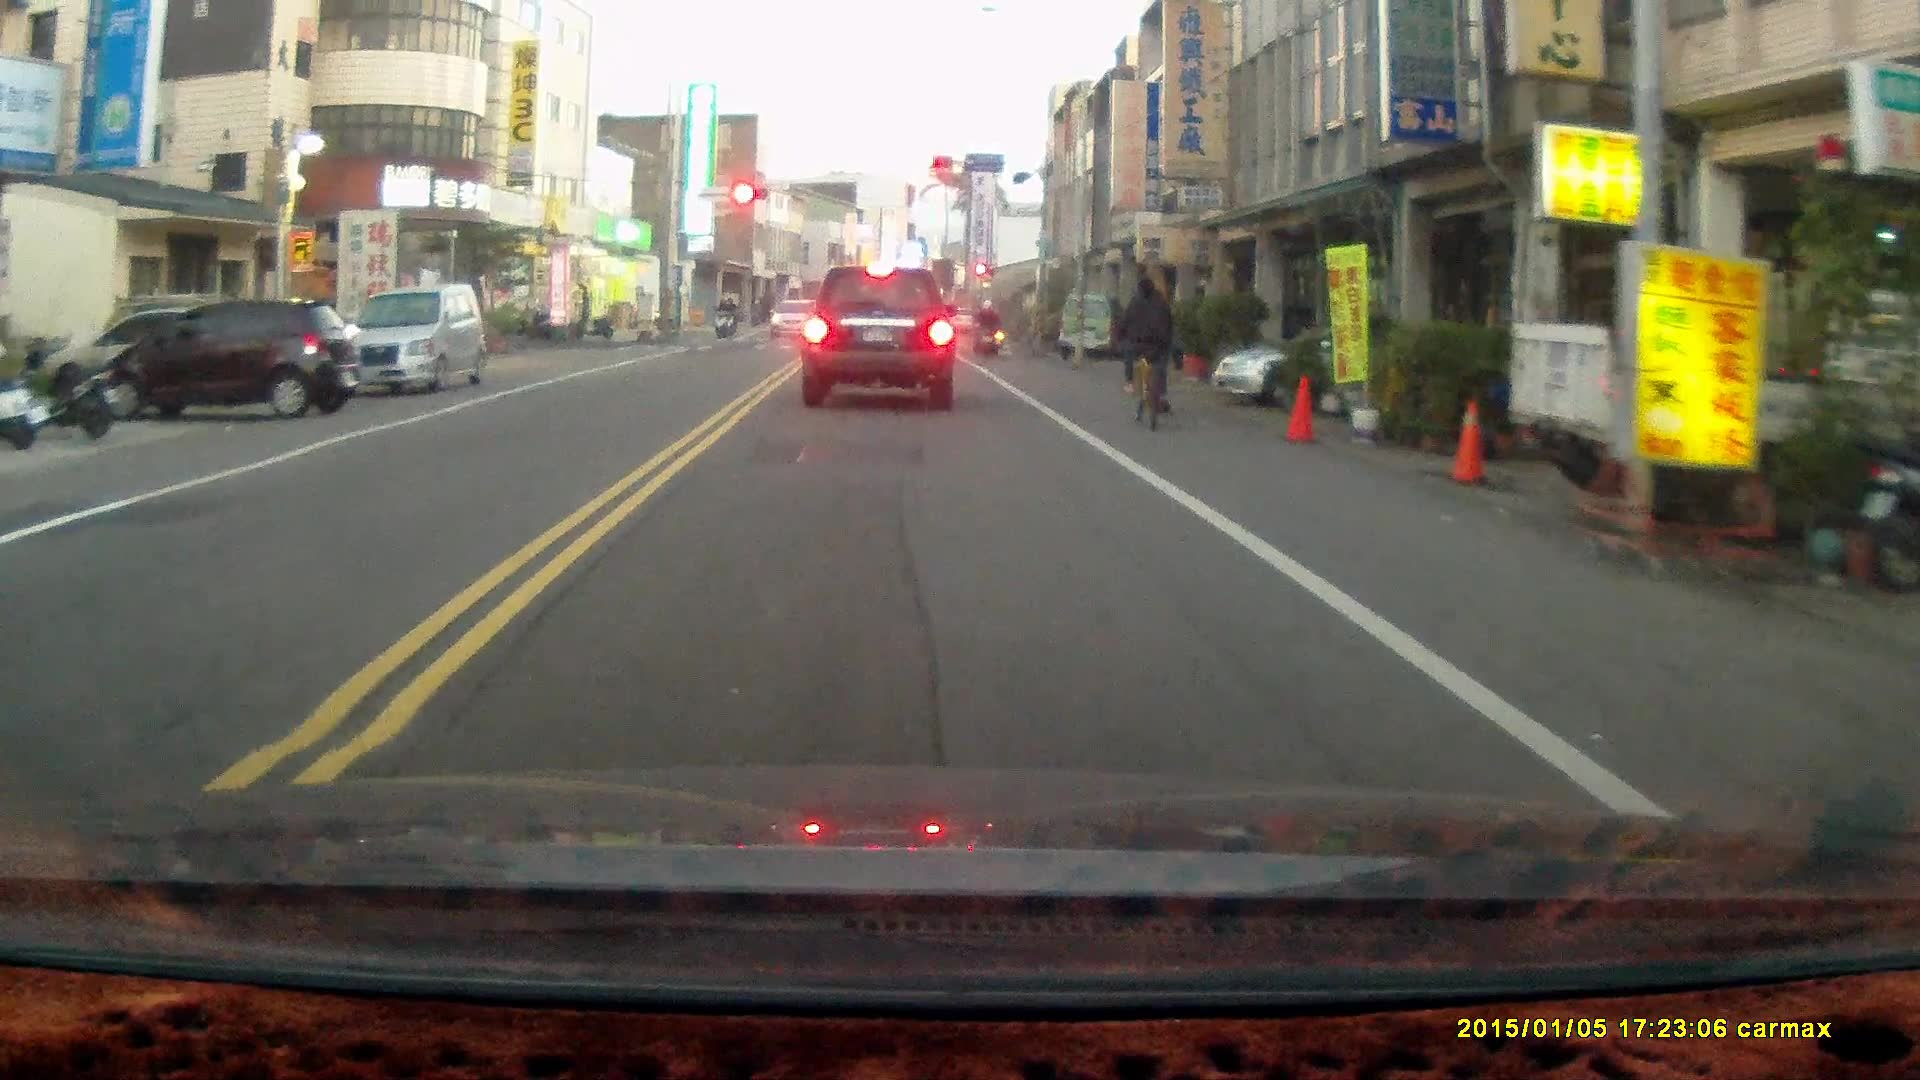rider: (1114, 274, 1175, 431), (971, 295, 1002, 358), (711, 293, 734, 339)
vehicle: (94, 294, 367, 423), (798, 264, 960, 413), (1212, 317, 1467, 406), (335, 281, 486, 397)
